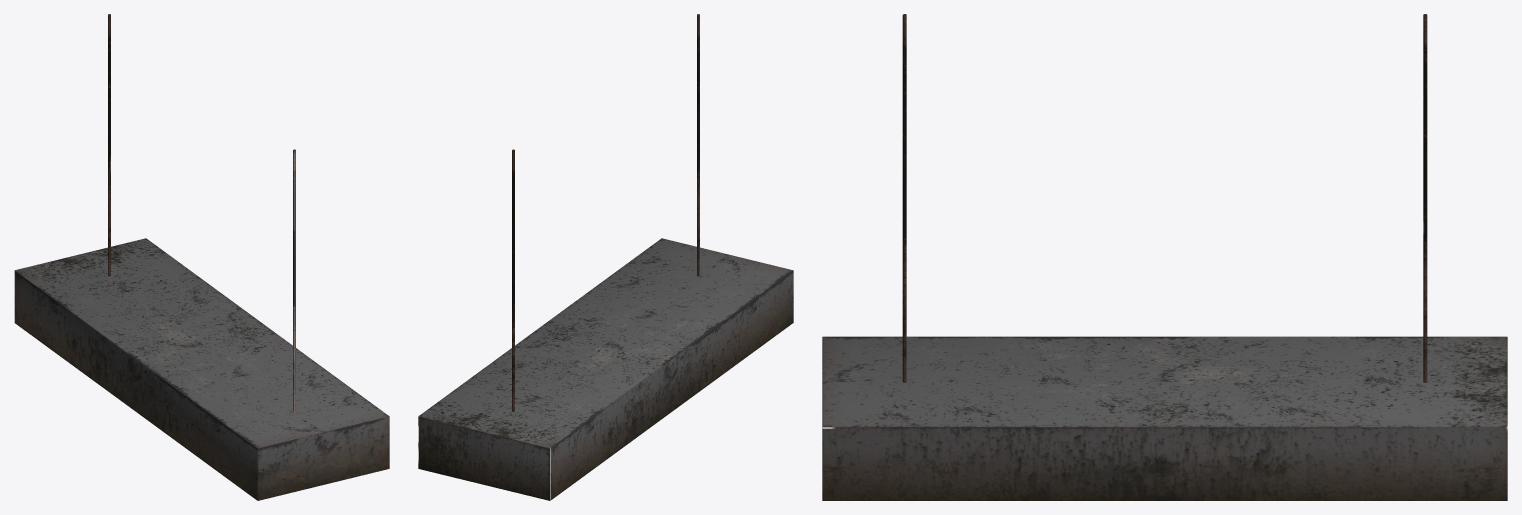
Rendered from LIGHT_FINAL.fbx.
The picture shows the model from 3 angles, left to right: view 1: azimuth 30°, elevation 25°; view 2: azimuth 150°, elevation 25°; view 3: azimuth 270°, elevation 25°; orthographic projection. The views are drawn at different scales.
Parts seen in each view (by area): view 1: Plane; view 2: Plane; view 3: Plane.
Part boxes in pixels (left/top/right/bottom): Plane: left=14, top=14, right=389, bottom=500; Plane: left=418, top=14, right=793, bottom=500; Plane: left=822, top=14, right=1507, bottom=500.
Size of the model in its own units: 52.5 by 119 by 168.
1 material, 1 textured.
